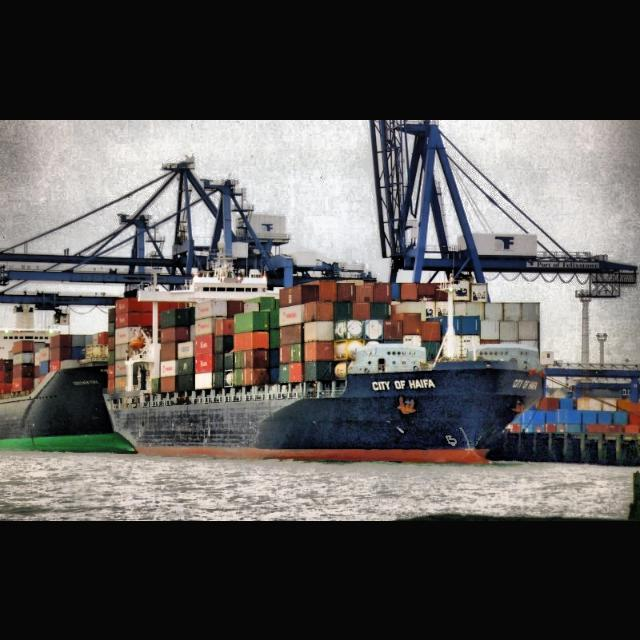container: (102, 247, 548, 465)
